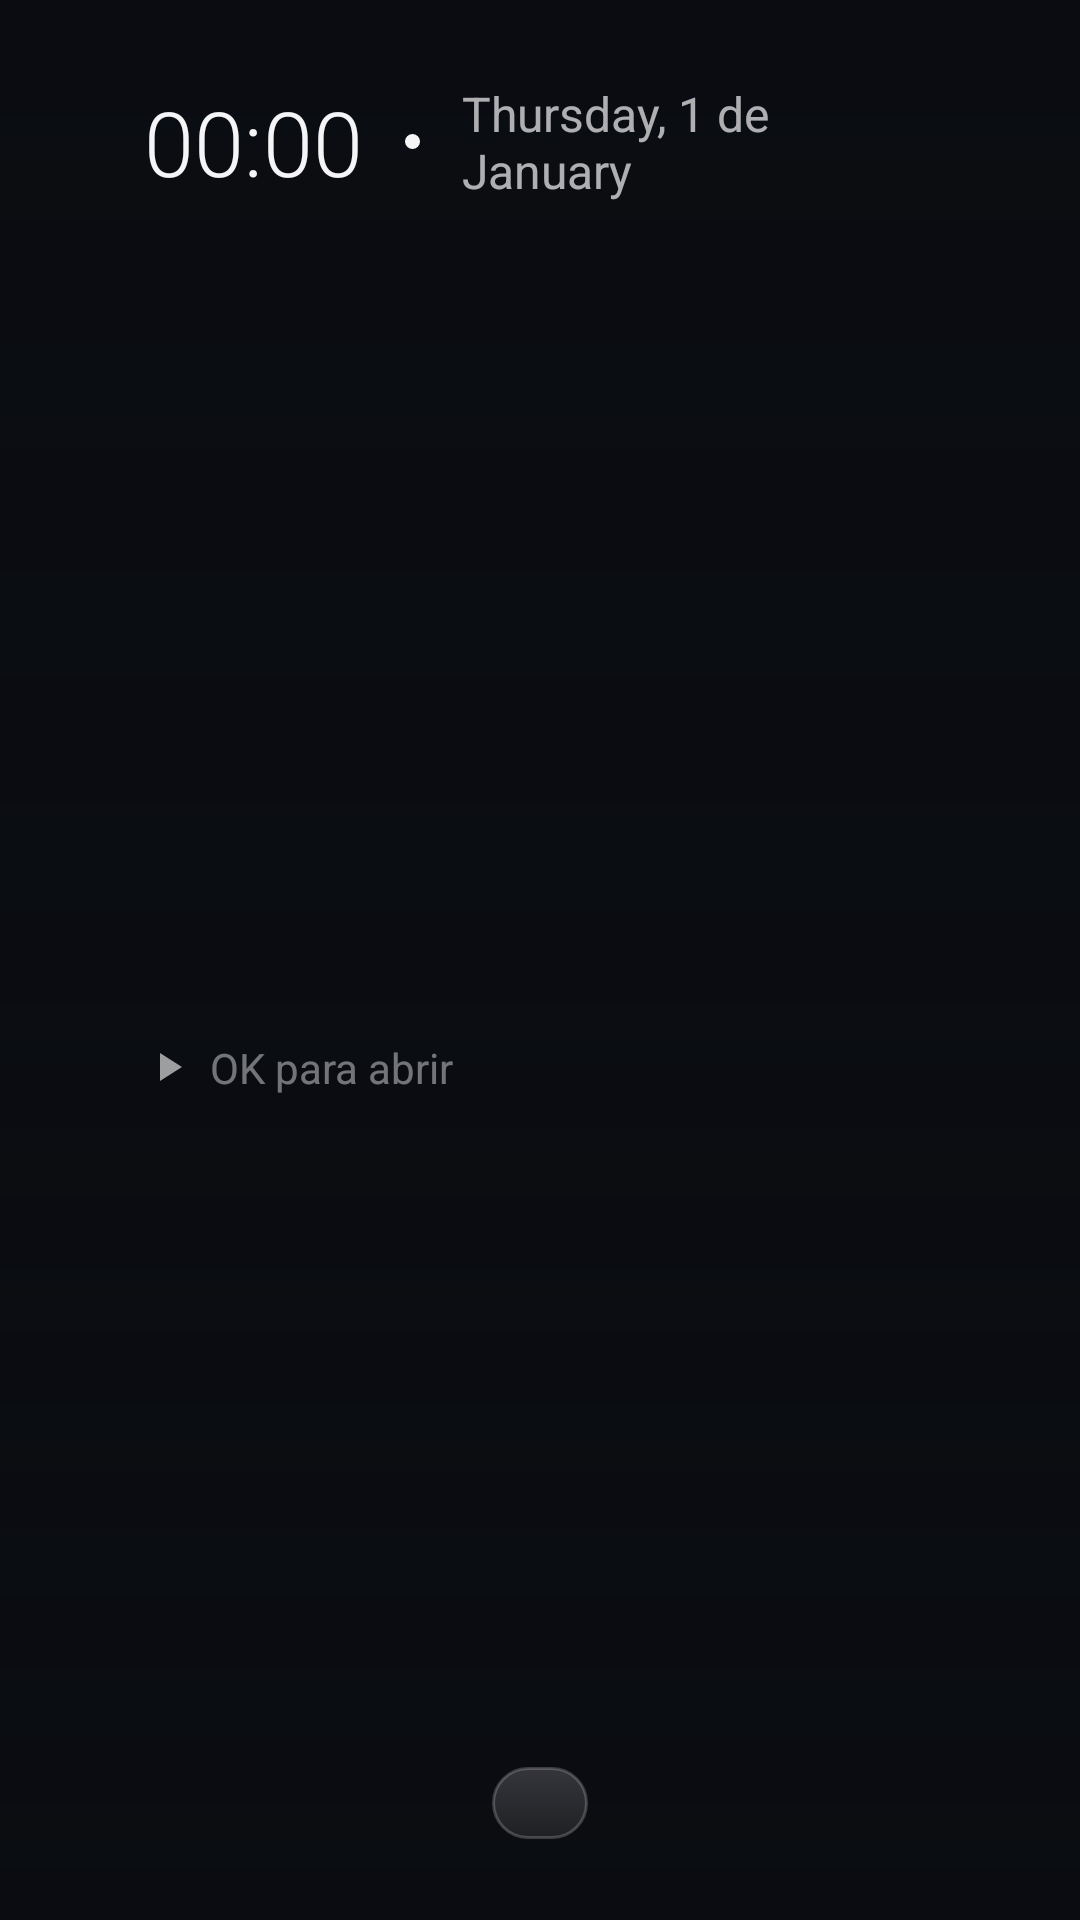

Locate icon controls on the screen. Image size 1080×1920, boxes as rect(x1, y1, x2, y2).
play: rect(160, 1053, 182, 1081)
